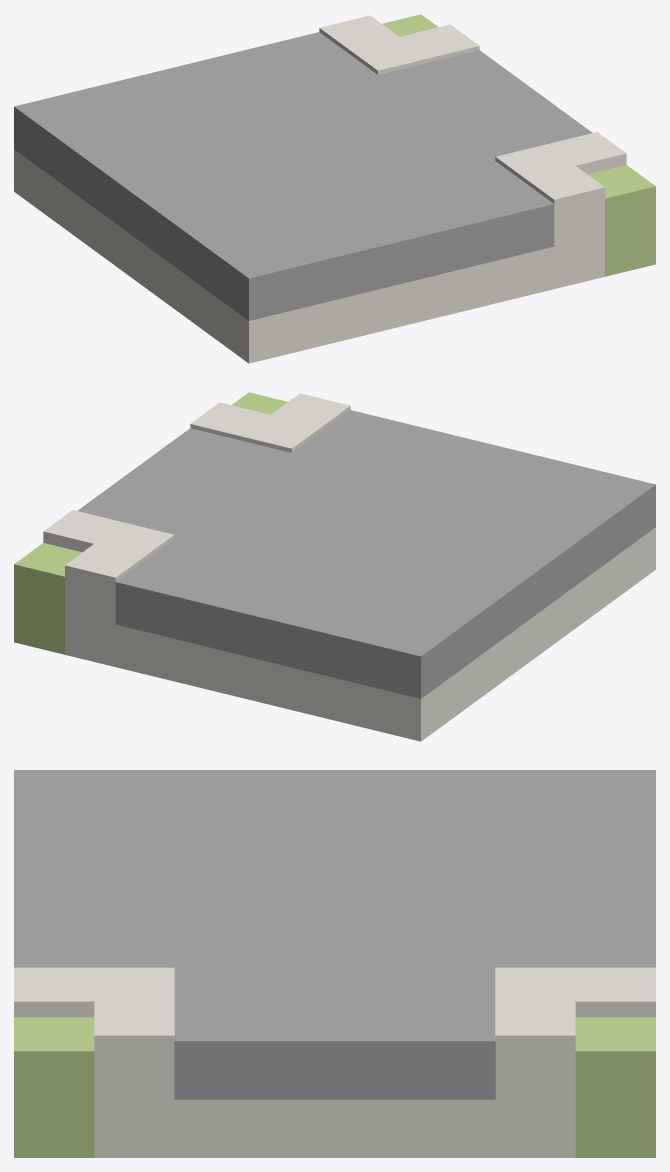
The model's file is road_tile_030.glb.
3 views of the same model, one above another, from view 1: azimuth 30°, elevation 25°; view 2: azimuth 150°, elevation 25°; view 3: azimuth 270°, elevation 25° (orthographic). The views are drawn at different scales.
Parts seen in each view (by area): view 1: roadTile_030; view 2: roadTile_030; view 3: roadTile_030.
Boxes of the visible parts, x1=… form: roadTile_030: x1=14, y1=14, x2=655, y2=363; roadTile_030: x1=14, y1=392, x2=655, y2=741; roadTile_030: x1=14, y1=770, x2=655, y2=1157.
Size of the model in its own units: 3 by 0.63 by 3.
